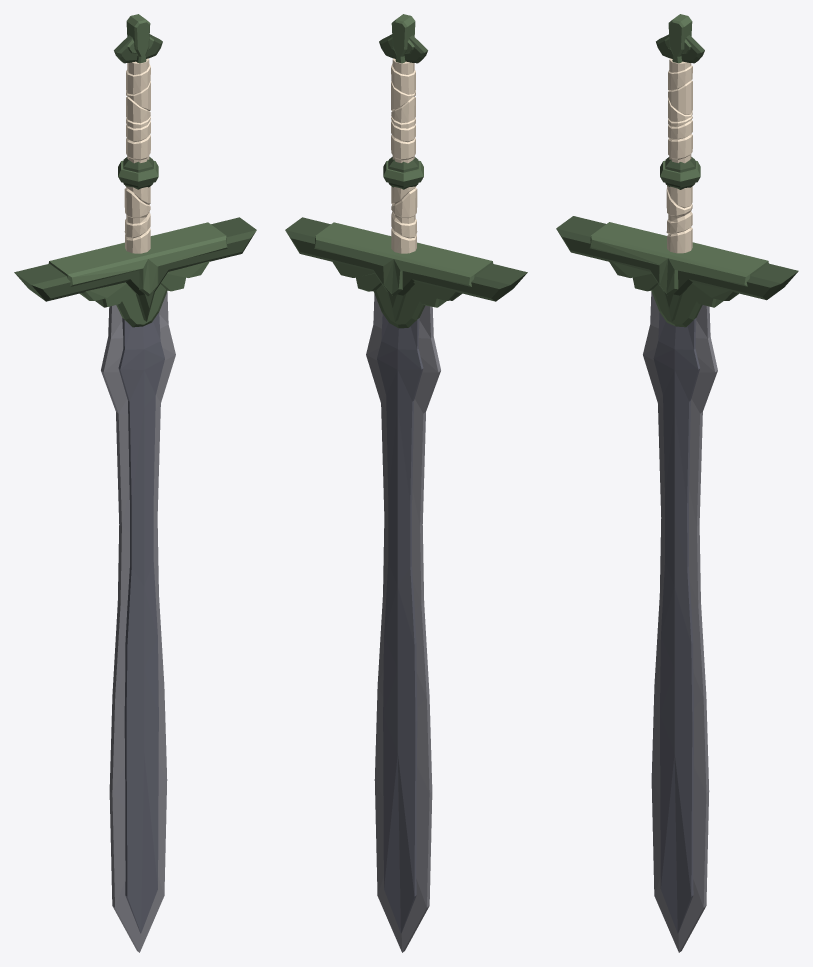
The model's file is _SWORD_3.fbx.
The picture shows the model from 3 angles, left to right: view 1: azimuth 30°, elevation 25°; view 2: azimuth 150°, elevation 25°; view 3: azimuth 330°, elevation 25°; orthographic projection.
Visible parts, largest first — view 1: SWORD_3; view 2: SWORD_3; view 3: SWORD_3.
Boxes of the visible parts, x1,y1,x2,y2 form: SWORD_3: (14, 14, 256, 952); SWORD_3: (285, 14, 527, 952); SWORD_3: (556, 14, 798, 952).
Bounding box in the file's own units: 40.32 × 159 × 7.88.
